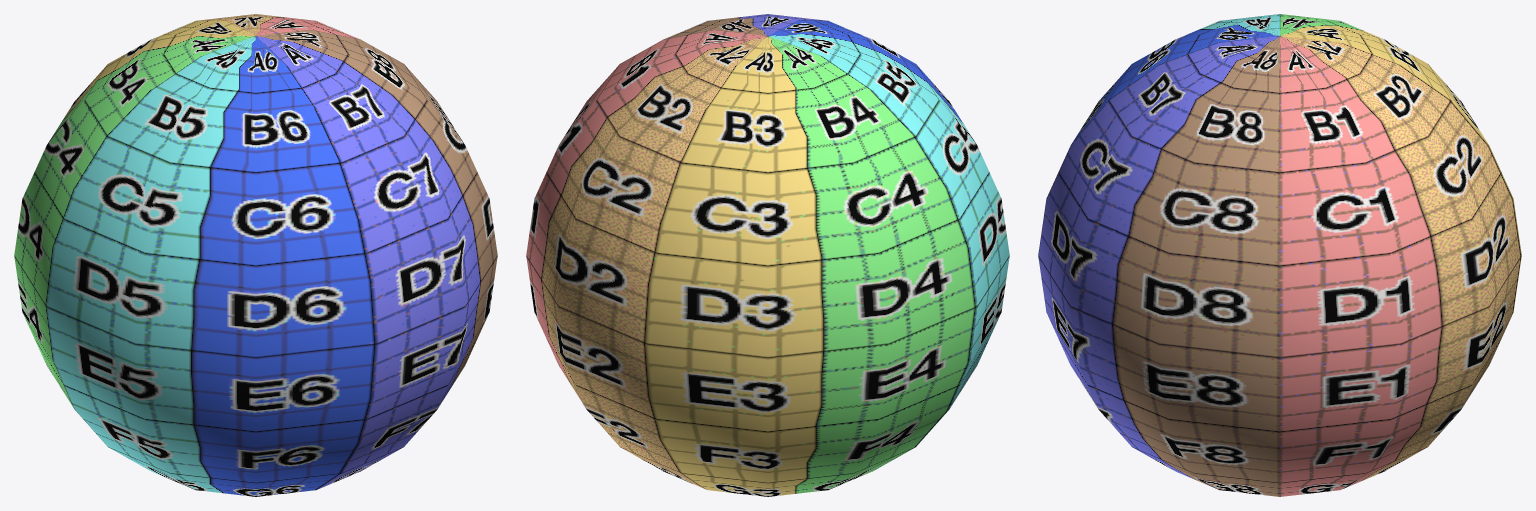
The picture shows the model from 3 angles, left to right: view 1: azimuth 30°, elevation 25°; view 2: azimuth 150°, elevation 25°; view 3: azimuth 270°, elevation 25°; orthographic projection.
Visible parts, largest first — view 1: g0; view 2: g0; view 3: g0.
Part boxes in pixels (left/top/right/bottom): g0: left=14, top=14, right=497, bottom=496; g0: left=526, top=14, right=1009, bottom=496; g0: left=1038, top=14, right=1521, bottom=496.
Size of the model in its own units: 1 by 1 by 1.
